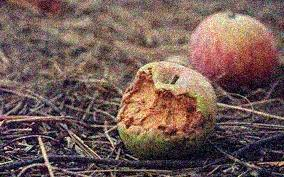rotten apple: (106, 60, 217, 160)
